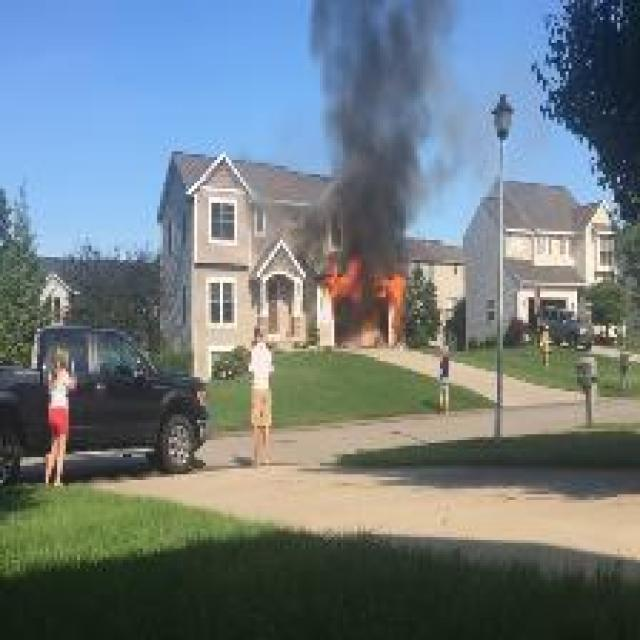fire: (302, 236, 428, 326)
other: (38, 359, 78, 451)
smoke: (304, 0, 430, 260)
